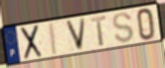0: (136, 7, 156, 41)
I: (48, 21, 60, 57)
S: (112, 11, 136, 44)
T: (90, 14, 108, 47)
V: (64, 16, 87, 52)
X: (20, 24, 43, 62)
